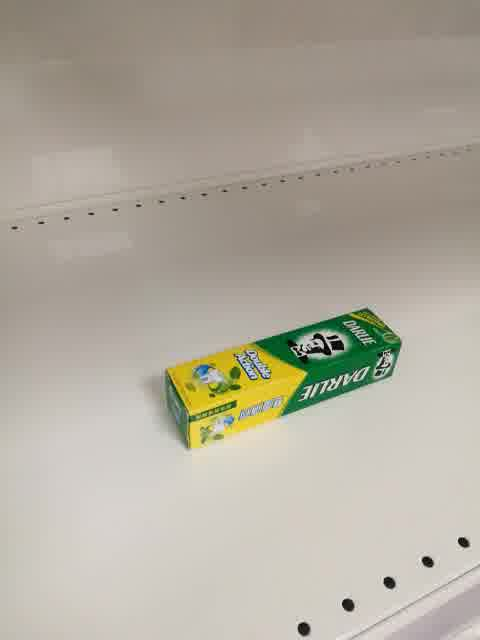toothpaste: (165, 307, 404, 451)
